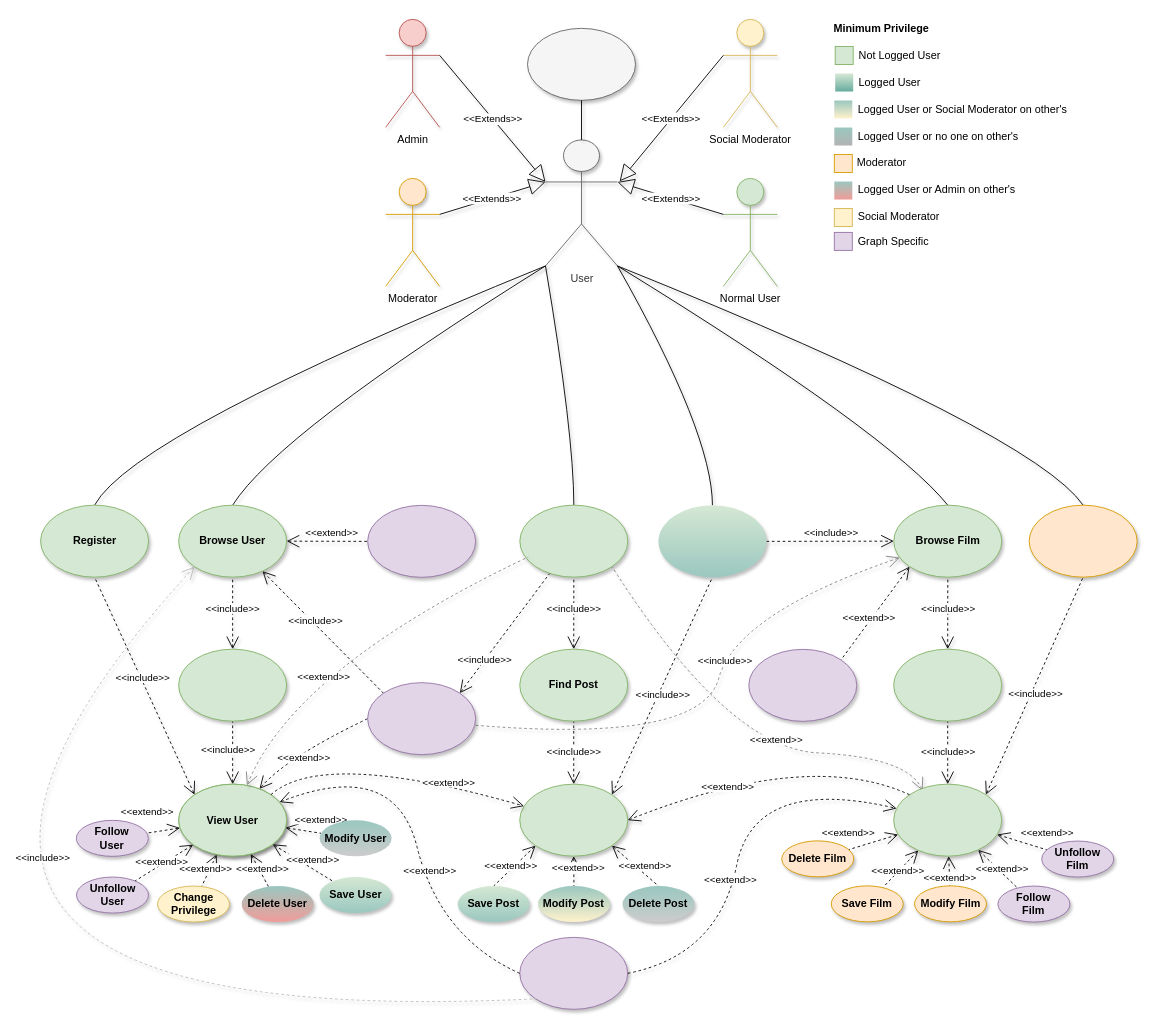
Image size: 1158x1031. Some labels were removed from this diagram. The centre of each missing label's shape, as x and y in pixels:
Add Film: the point at 1084,542
Add Post: the point at 712,542
Browse Follower: the point at 574,974
Browse Following: the point at 422,719
Browse Post: the point at 574,542
Browse Suggested Film (*): the point at 803,686
Browse Suggested User (*): the point at 422,542
Find Film: the point at 948,686
Find User: the point at 233,686
Login/Logout: the point at 582,65
View Film: the point at 948,821
View Post: the point at 574,821
